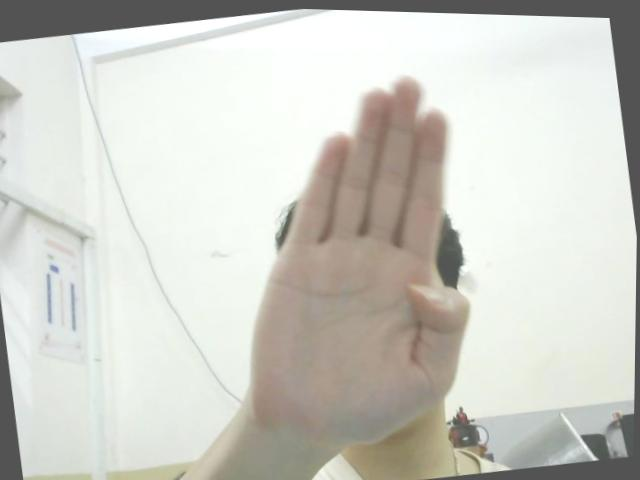B: (208, 61, 489, 451)
